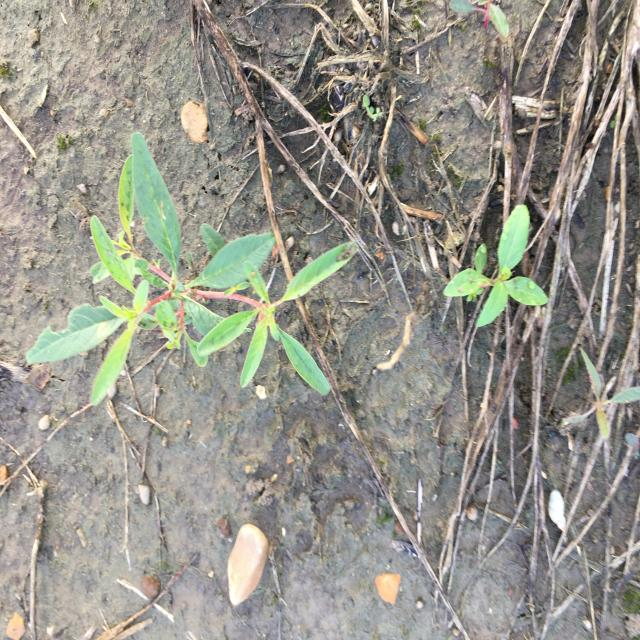Eclipta: (442, 202, 551, 330)
Waterhemp: (24, 130, 362, 410)
